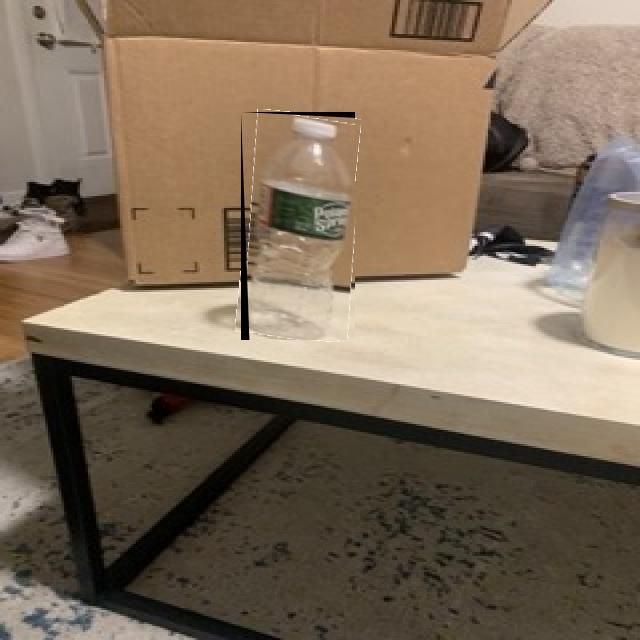water_bottle: (241, 112, 355, 340)
